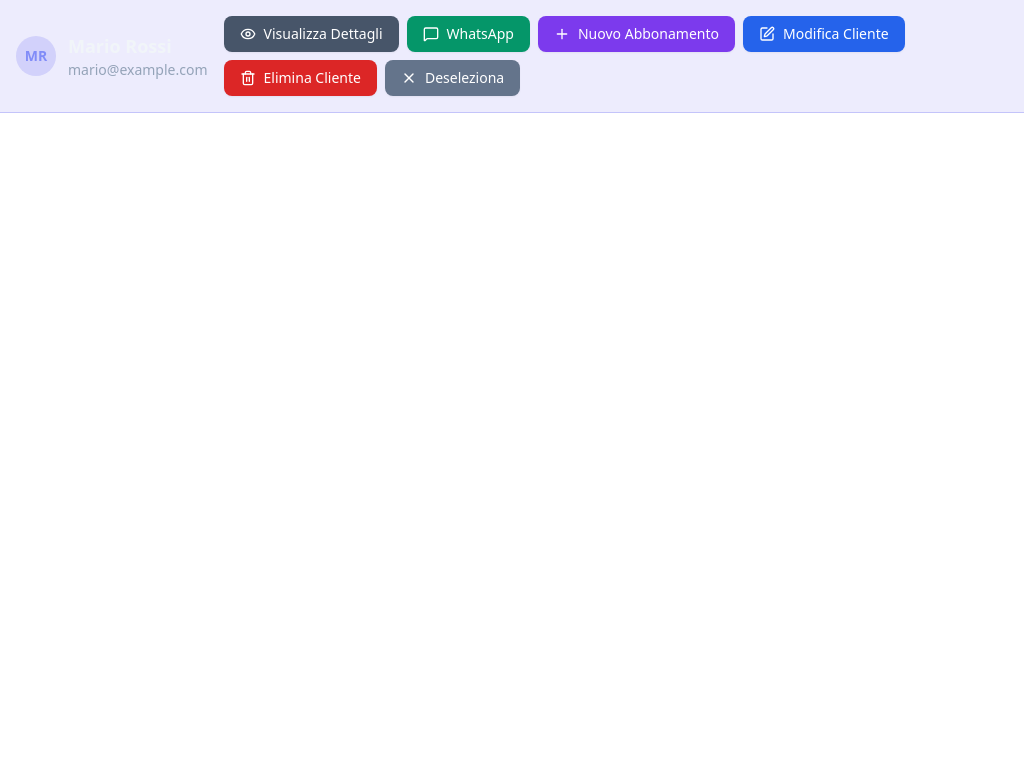
Scenario: ClientToolbar - ClientDetailsModal › Chiude il modale quando clicchi il pulsante Chiudi
Step 1. Click the button "Visualizza Dettagli" → (311, 34), box x1=224 y1=16 x2=398 y2=52
(page scrolled)
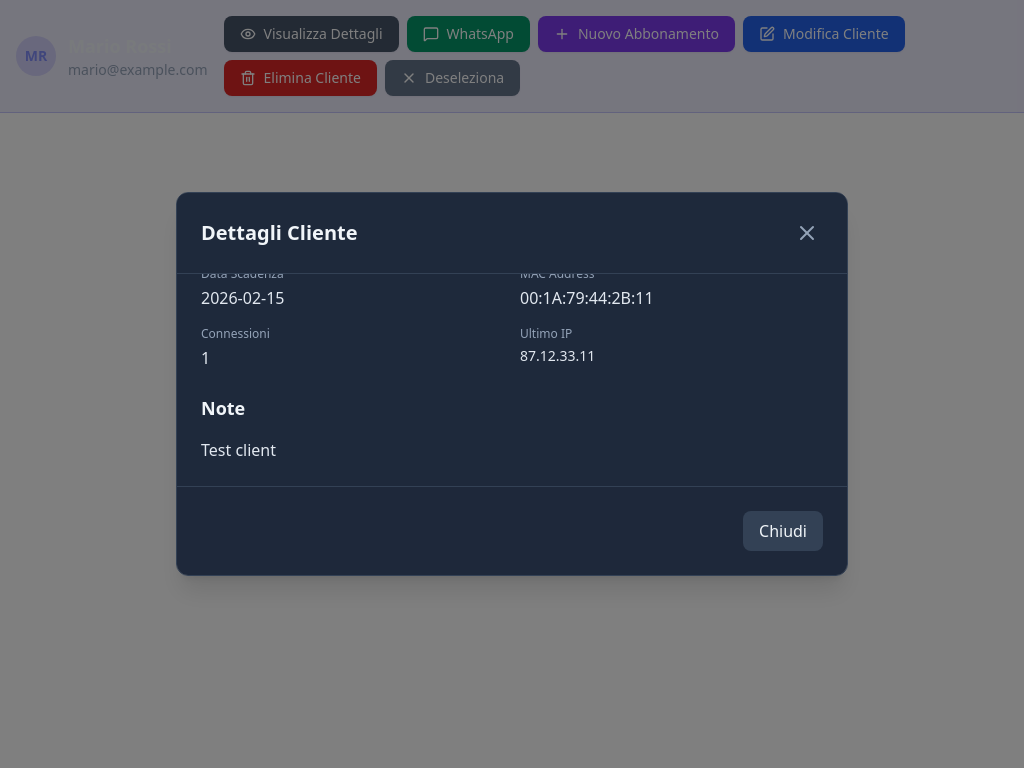
expect the heading "Dettagli Cliente" is shown: met, box x1=201 y1=219 x2=358 y2=247
Step 2. Click the button "Chiudi" → (783, 531), box x1=743 y1=511 x2=823 y2=551
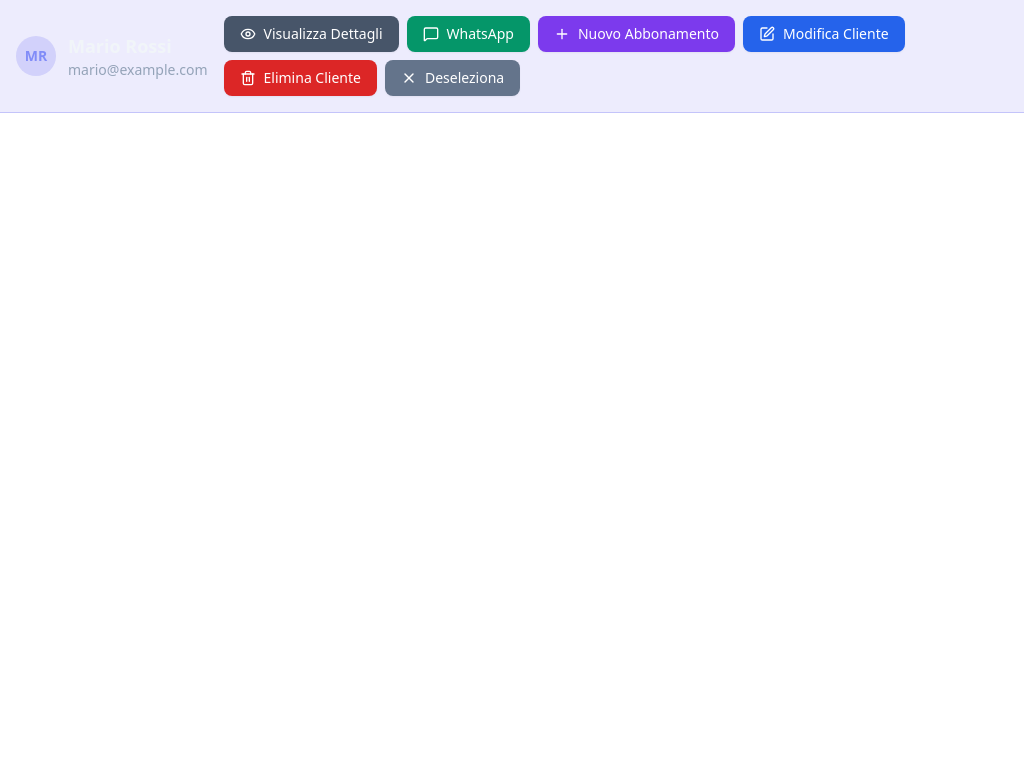
expect the heading "Dettagli Cliente" is gone: met
